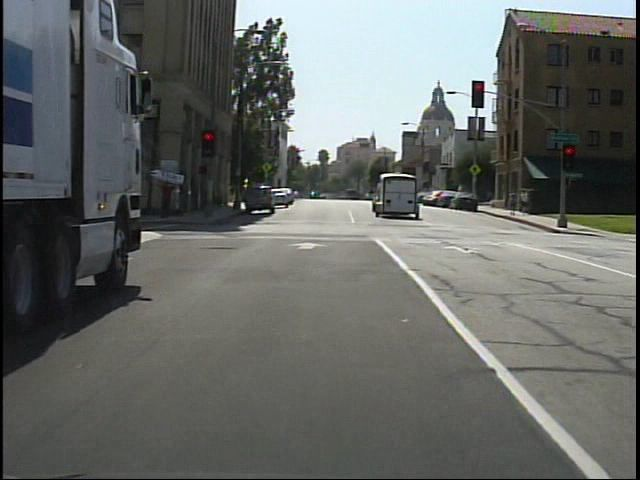person: (158, 176, 178, 218), (518, 187, 533, 216), (507, 186, 520, 218)
